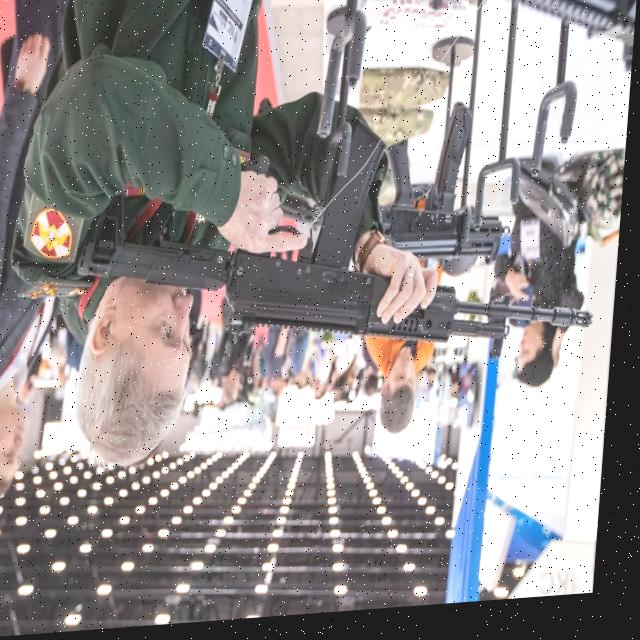firearm: (79, 114, 610, 379), (378, 106, 522, 282), (422, 0, 640, 96)
